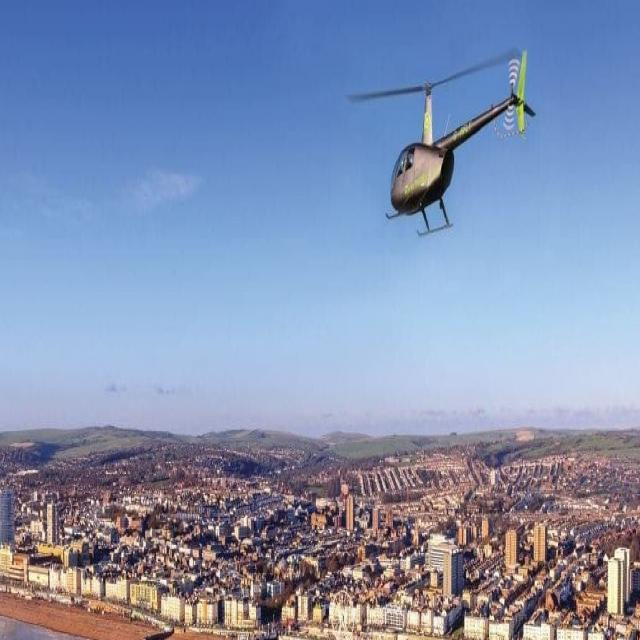helicopter: (347, 43, 542, 249)
